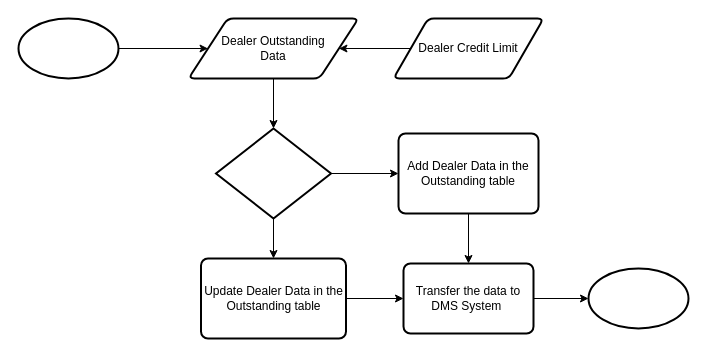
Some shapes in this 706 by 356 pixel diagram are drawn without their labels. The centre of each missing label's shape, as x and y in pixels:
"Dealer Existing" goes at pixel 273 173.
"Start" goes at pixel 68 48.
"Stop" goes at pixel 638 298.
